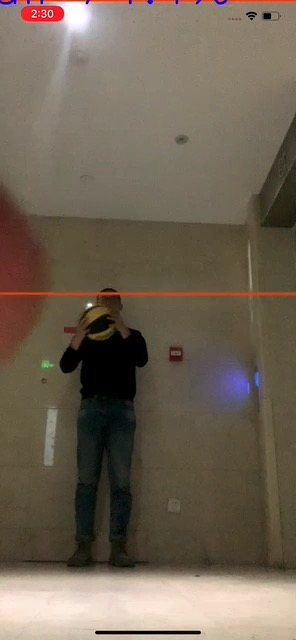ball: (79, 305, 118, 343)
